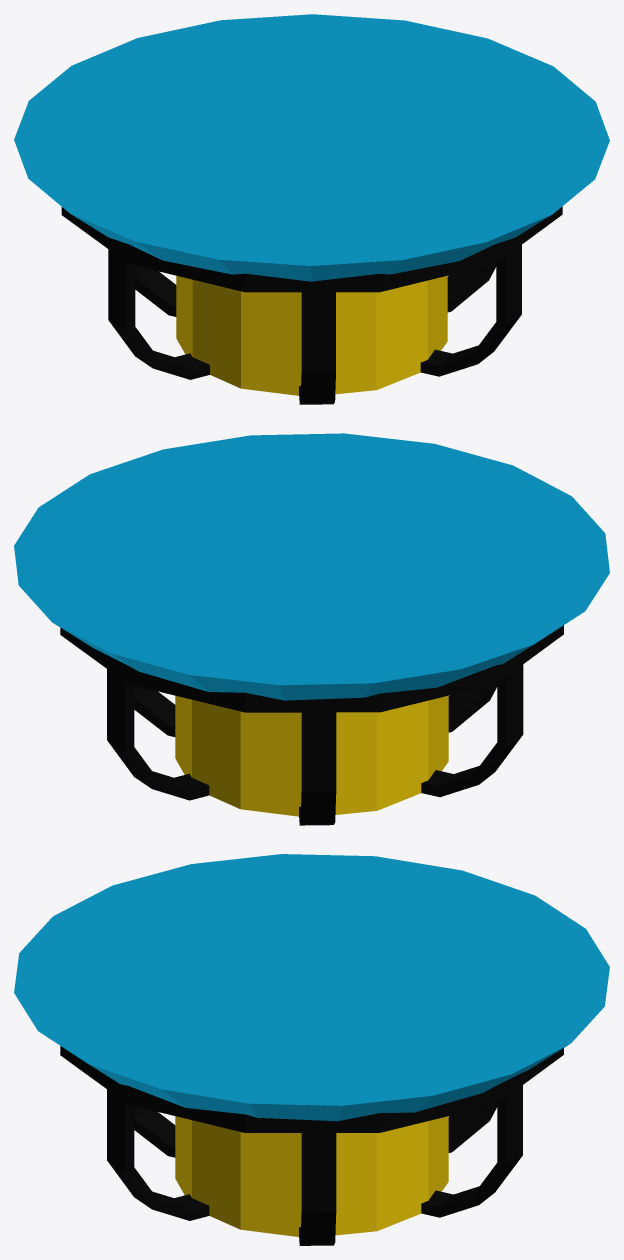
File: suctionCupCGSimple.dae
3 renders of one model, top to bottom at view 1: azimuth 30°, elevation 25°; view 2: azimuth 150°, elevation 25°; view 3: azimuth 270°, elevation 25°, orthographic.
Visible parts, largest first — view 1: ID12, ID6, ID9; view 2: ID12, ID6, ID9; view 3: ID12, ID6, ID9.
Part boxes in pixels (left/top/right/bottom): ID12: left=14, top=14, right=609, bottom=281; ID6: left=176, top=275, right=447, bottom=395; ID9: left=61, top=206, right=562, bottom=404; ID12: left=14, top=433, right=609, bottom=700; ID6: left=175, top=695, right=448, bottom=816; ID9: left=60, top=625, right=563, bottom=825; ID12: left=14, top=854, right=609, bottom=1121; ID6: left=175, top=1116, right=448, bottom=1236; ID9: left=60, top=1046, right=563, bottom=1245.
Bounding box in the file's own units: 0.1746 × 0.1746 × 0.0648.
